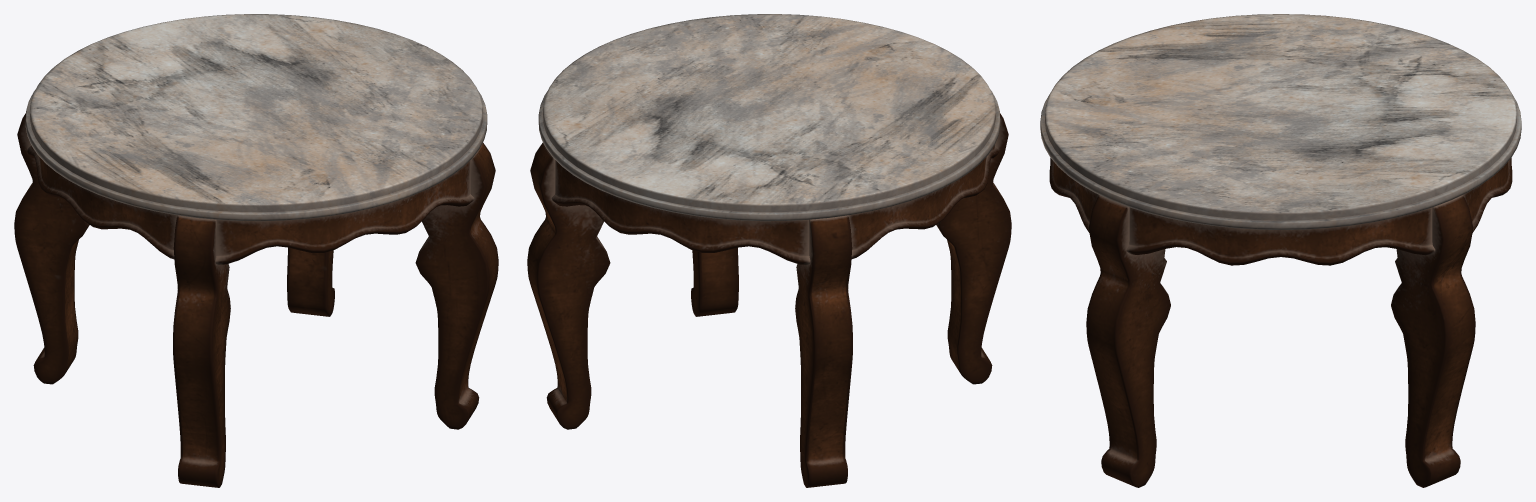
File: victorian_side_table.glb
The picture shows the model from 3 angles, left to right: view 1: azimuth 30°, elevation 25°; view 2: azimuth 150°, elevation 25°; view 3: azimuth 270°, elevation 25°; orthographic projection. The views are drawn at different scales.
Visible parts, largest first — view 1: Cylinder, Small_table_wood; view 2: Cylinder, Small_table_wood; view 3: Cylinder, Small_table_wood.
Boxes of the visible parts, x1,y1,x2,y2 form: Cylinder: (25, 14, 487, 221); Small_table_wood: (14, 113, 498, 487); Cylinder: (538, 14, 1000, 221); Small_table_wood: (527, 113, 1011, 487); Cylinder: (1040, 14, 1521, 229); Small_table_wood: (1049, 158, 1512, 487).
Bounding box in the file's own units: 0.7498 × 0.5184 × 0.7498.
Materials: 2 (2 with a texture image).
